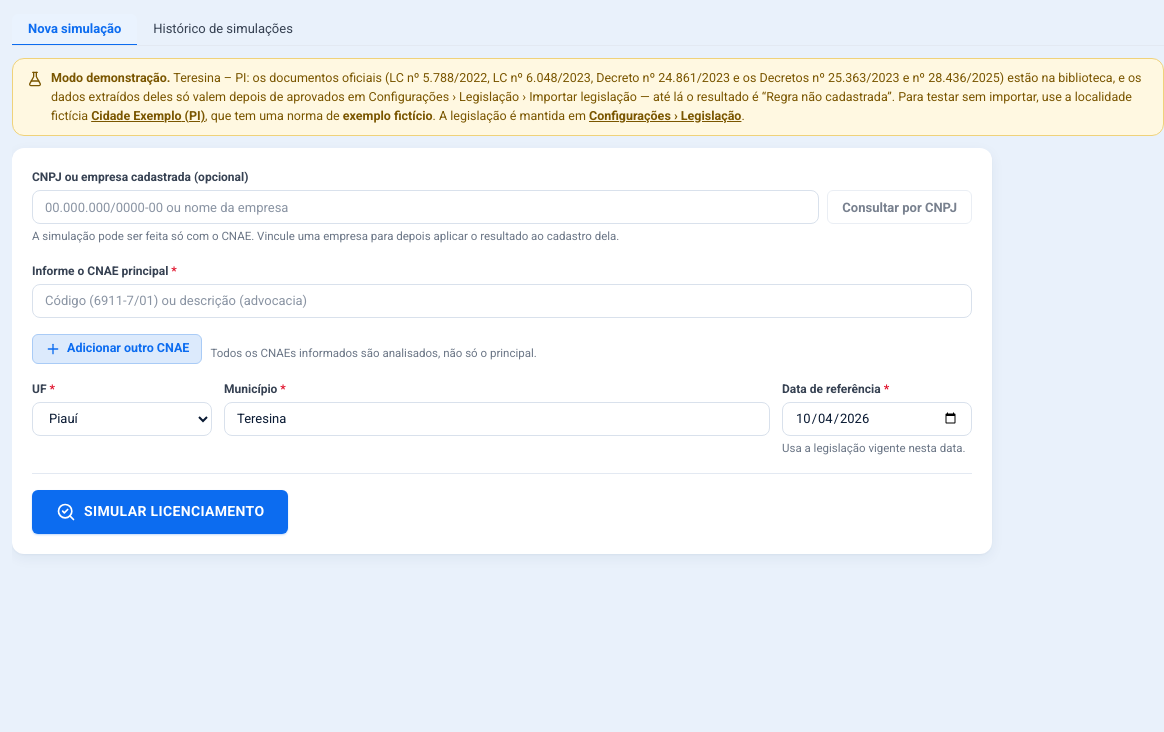
Test case: tela de Simulação de Licenciamento › valida CNAE incompleto antes de simular
Click the button "Cidade Exemplo (PI)": click(148, 116) x1=91 y1=106 x2=205 y2=125
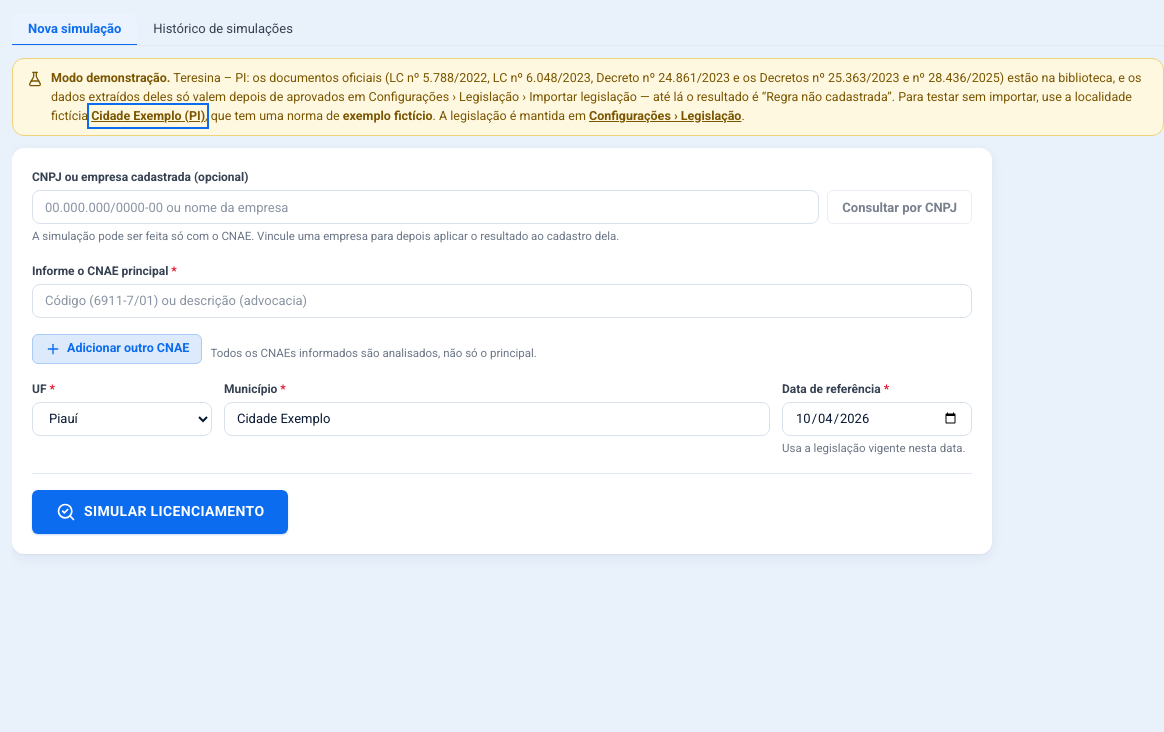
In the dropdown labelled "Informe o CNAE principal *": (502, 300) x1=32 y1=284 x2=972 y2=318, type "123"
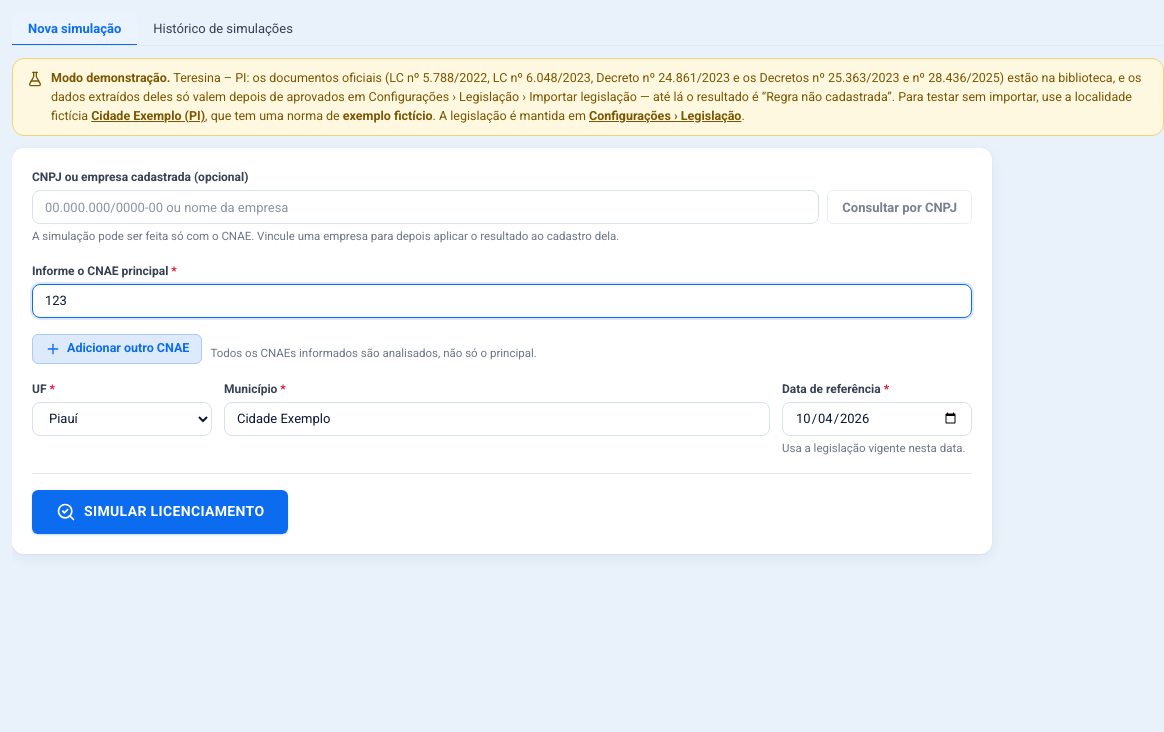
Click the button "Simular licenciamento": click(160, 512) x1=32 y1=490 x2=288 y2=534
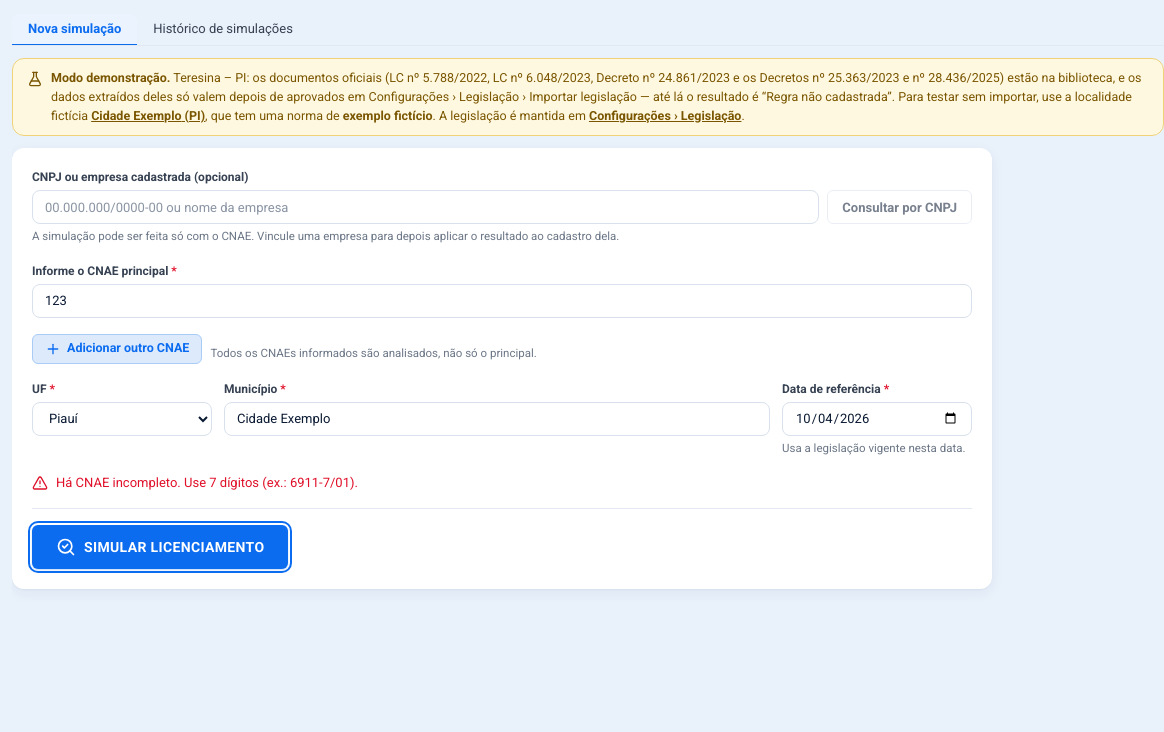
Expected: the message shows "CNAE incompleto", x1=56 y1=475 x2=358 y2=490
